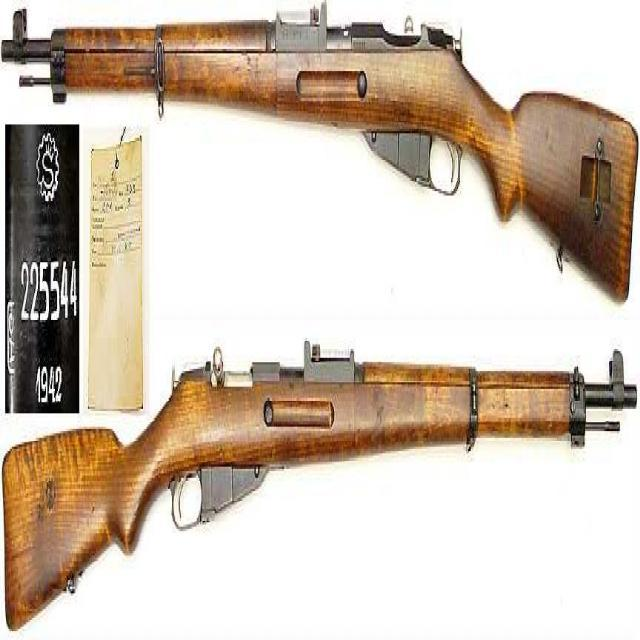weapon: (0, 0, 636, 320), (0, 338, 639, 640)
